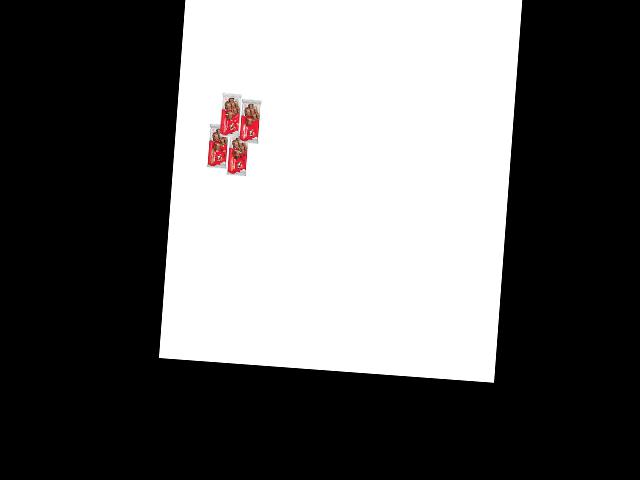chocolate: (204, 120, 233, 172)
